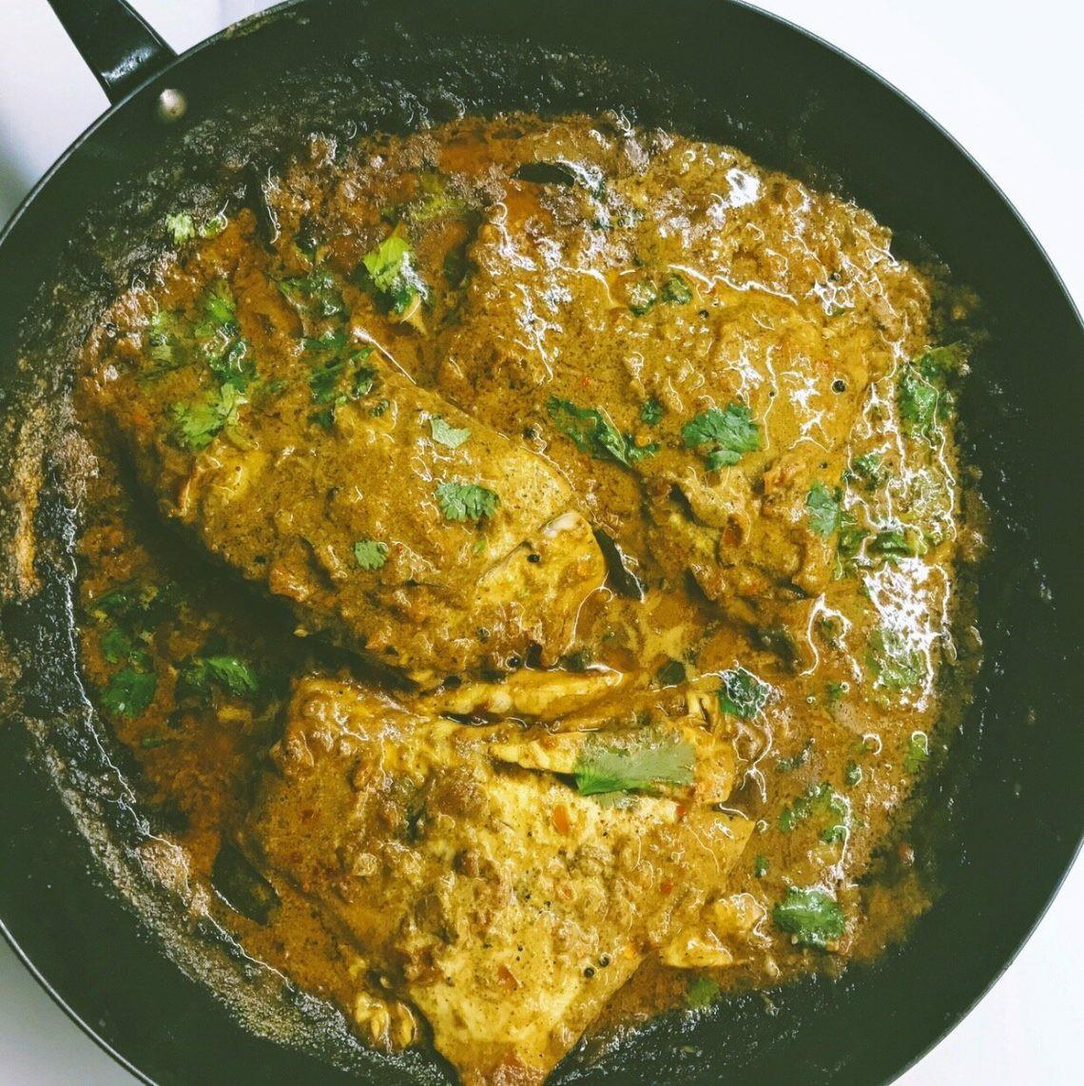FishCurry: (87, 114, 985, 1086)
